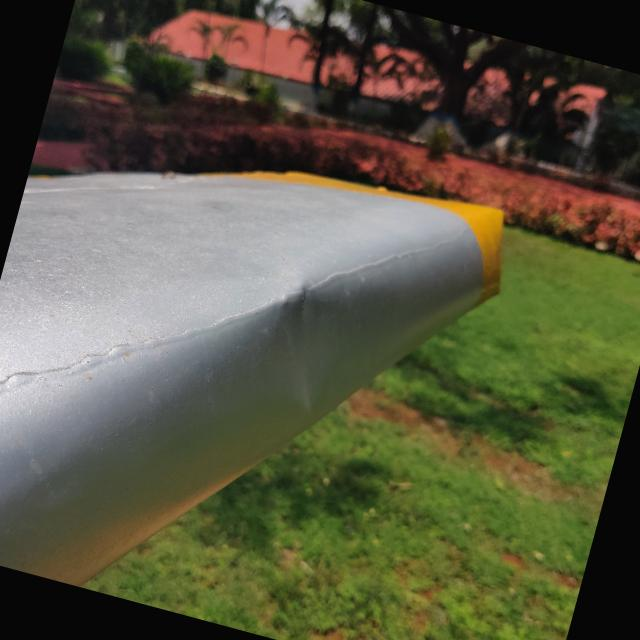dent: (224, 256, 375, 436)
